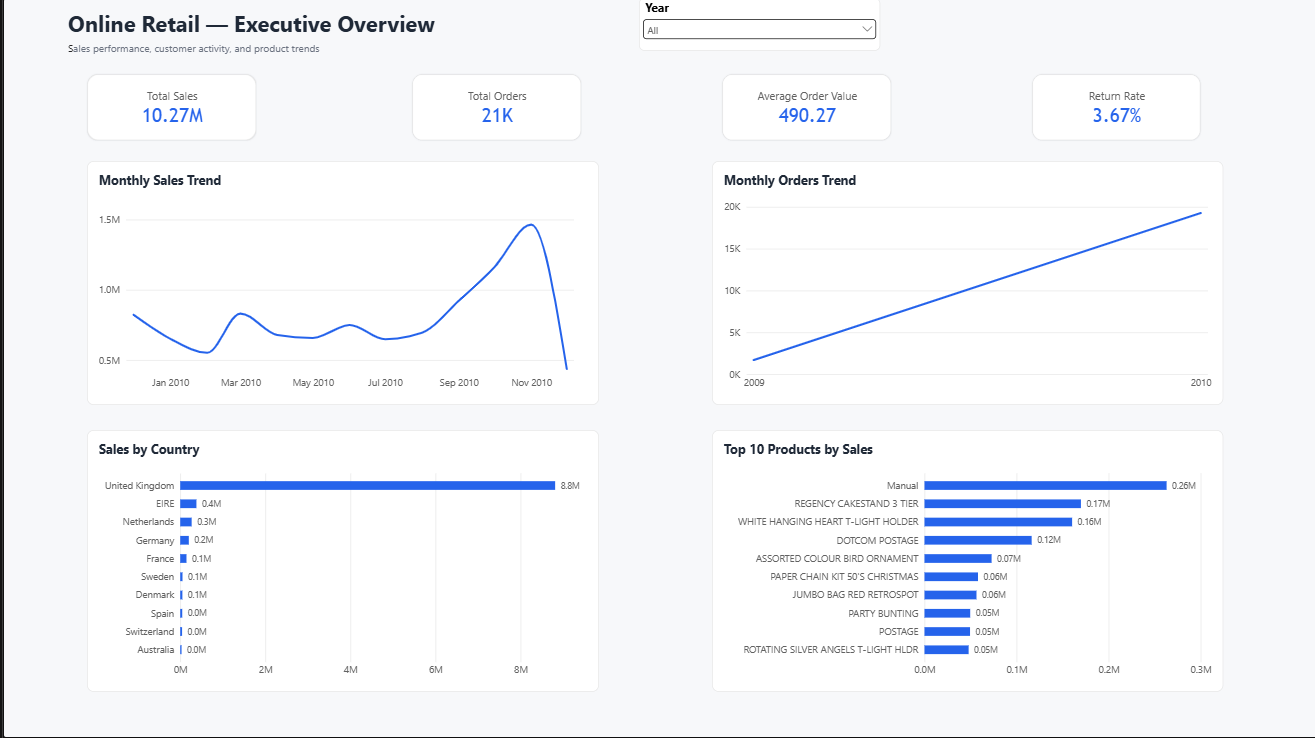

This screenshot's page, from the dashboard's own definition file:
{"tool":"powerbi","page":{"name":"Executive Overview","canvas":[1920,1080],"ordinal":0},"visuals":[{"type":"cardVisual","fields":{"Data":["online_retail_cleaned.Total Sales"]},"box":[121.8,109.6,250,100],"z":0},{"type":"cardVisual","fields":{"Data":["online_retail_cleaned.Total Orders"]},"box":[595.3,109.6,250,100],"z":1000},{"type":"cardVisual","fields":{"Data":["online_retail_cleaned.Average Order Value"]},"box":[1047.5,109.6,250,100],"z":2000},{"type":"cardVisual","fields":{"Data":["online_retail_cleaned.Return Rate"]},"box":[1499.8,109.6,249.7,100.5],"z":3000},{"type":"lineChart","title":"Monthly Sales Trend","fields":{"Category":["online_retail_cleaned.InvoiceDate.Variation.Date Hierarchy.Year","online_retail_cleaned.InvoiceDate.Variation.Date Hierarchy.Month"],"Y":["online_retail_cleaned.Total Sales"]},"box":[122.6,237.8,747,356],"z":4000},{"type":"lineChart","title":"Monthly Orders Trend","fields":{"Category":["online_retail_cleaned.InvoiceDate.Variation.Date Hierarchy.Year","online_retail_cleaned.InvoiceDate.Variation.Date Hierarchy.Month"],"Y":["online_retail_cleaned.Total Orders"]},"box":[1034.4,237.8,746,356],"z":5000},{"type":"barChart","title":"Sales by Country","fields":{"Category":["online_retail_cleaned.Country"],"Y":["online_retail_cleaned.Total Sales"]},"box":[122.6,630.3,747,382.2],"z":6000},{"type":"barChart","title":"Top 10 Products by Sales","fields":{"Category":["online_retail_cleaned.Description"],"Y":["online_retail_cleaned.Total Sales"]},"box":[1034.4,630.3,746,382.2],"z":7000},{"type":"textbox","box":[95.4,14.9,624.6,47.7],"z":8000},{"type":"textbox","box":[95.4,62.6,401,29.8],"z":9000},{"type":"slicer","title":"Year","fields":{"Values":["online_retail_cleaned.InvoiceDate.Variation.Date Hierarchy.Year","online_retail_cleaned.InvoiceDate.Variation.Date Hierarchy.Quarter","online_retail_cleaned.InvoiceDate.Variation.Date Hierarchy.Month","online_retail_cleaned.InvoiceDate.Variation.Date Hierarchy.Day"]},"box":[927.9,0,351.6,77.3],"z":10000}]}

Visuals, with their boxes in screenshot pixels (x1, y1, x2, y2), scaled from the page's 1920x1080 canvas onto the 1315x738 screenshot:
cardVisual - online_retail_cleaned.Total Sales: x1=83 y1=75 x2=255 y2=143
cardVisual - online_retail_cleaned.Total Orders: x1=408 y1=75 x2=579 y2=143
cardVisual - online_retail_cleaned.Average Order Value: x1=717 y1=75 x2=889 y2=143
cardVisual - online_retail_cleaned.Return Rate: x1=1027 y1=75 x2=1198 y2=144
"Monthly Sales Trend" lineChart: x1=84 y1=162 x2=596 y2=406
"Monthly Orders Trend" lineChart: x1=708 y1=162 x2=1219 y2=406
"Sales by Country" barChart: x1=84 y1=431 x2=596 y2=692
"Top 10 Products by Sales" barChart: x1=708 y1=431 x2=1219 y2=692
textbox: x1=65 y1=10 x2=493 y2=43
textbox: x1=65 y1=43 x2=340 y2=63
"Year" slicer: x1=636 y1=0 x2=876 y2=53
